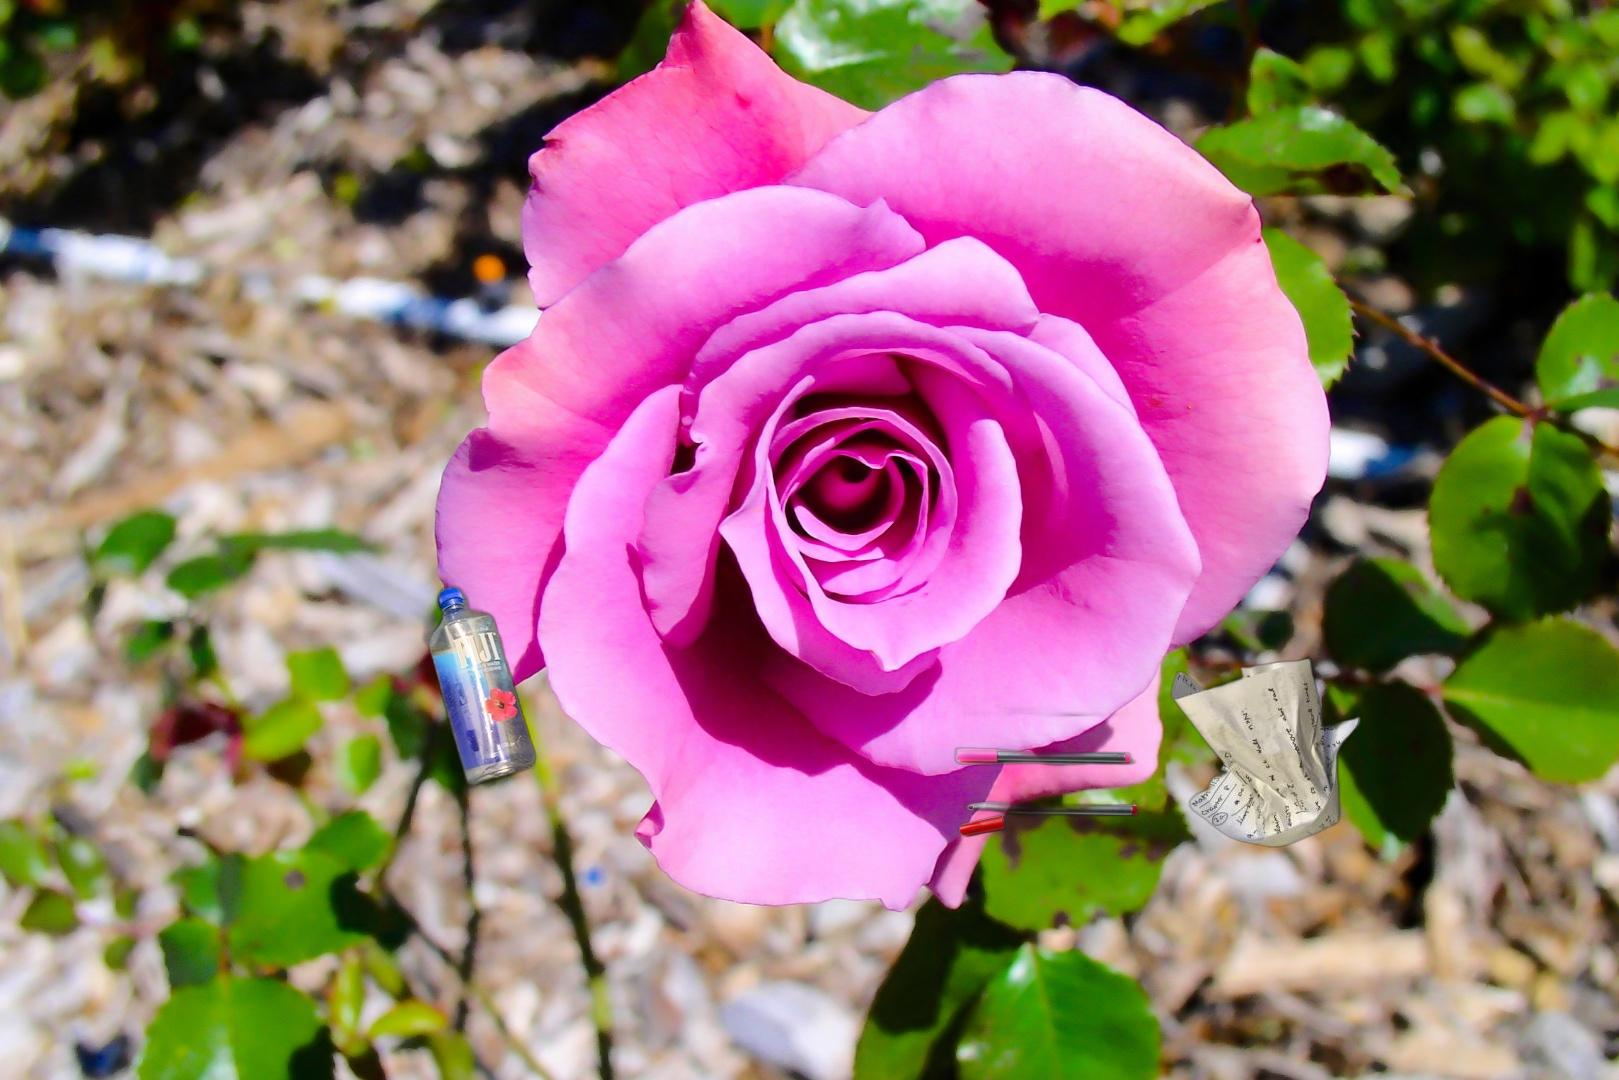paper: (1166, 655, 1364, 850)
penholder: (950, 698, 1141, 839)
plastic-bottles: (420, 579, 539, 804)
